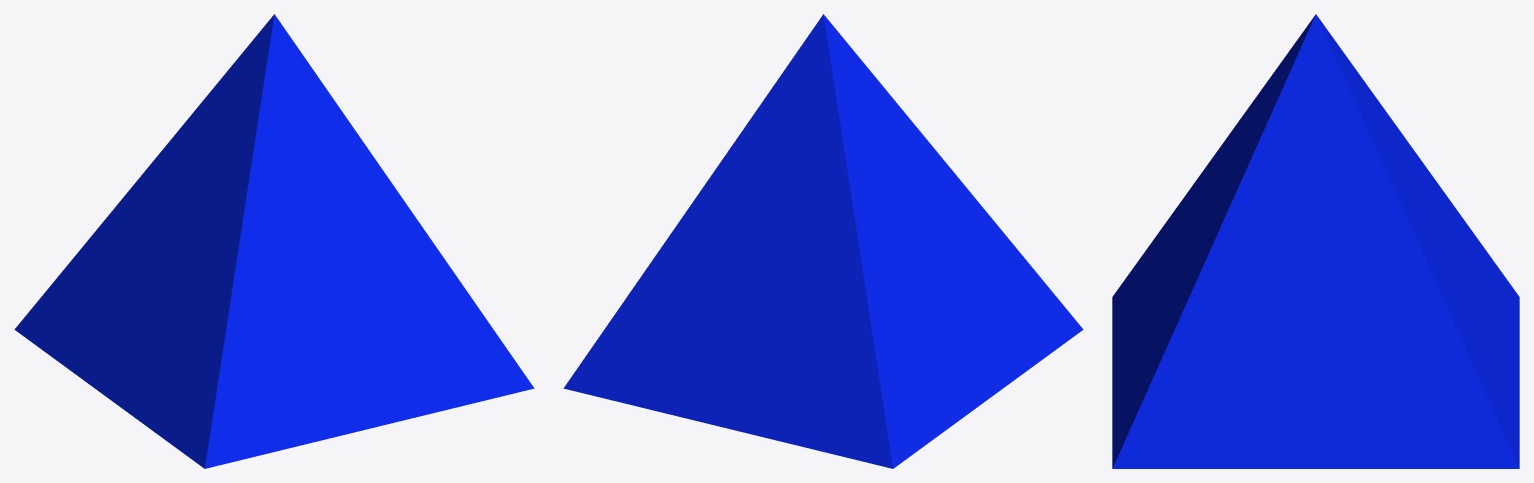
3 views of the same model, side by side, from view 1: azimuth 30°, elevation 25°; view 2: azimuth 150°, elevation 25°; view 3: azimuth 270°, elevation 25° (orthographic). The views are drawn at different scales.
Visible parts, largest first — view 1: Pyramid; view 2: Pyramid; view 3: Pyramid.
Part boxes in pixels (<box>): Pyramid: <box>14,14,534,468</box>; Pyramid: <box>563,14,1083,468</box>; Pyramid: <box>1112,14,1519,468</box>.
Bounding box in the file's own units: 7.93 × 7.93 × 7.93.
Materials: 1 (1 with a texture image).
